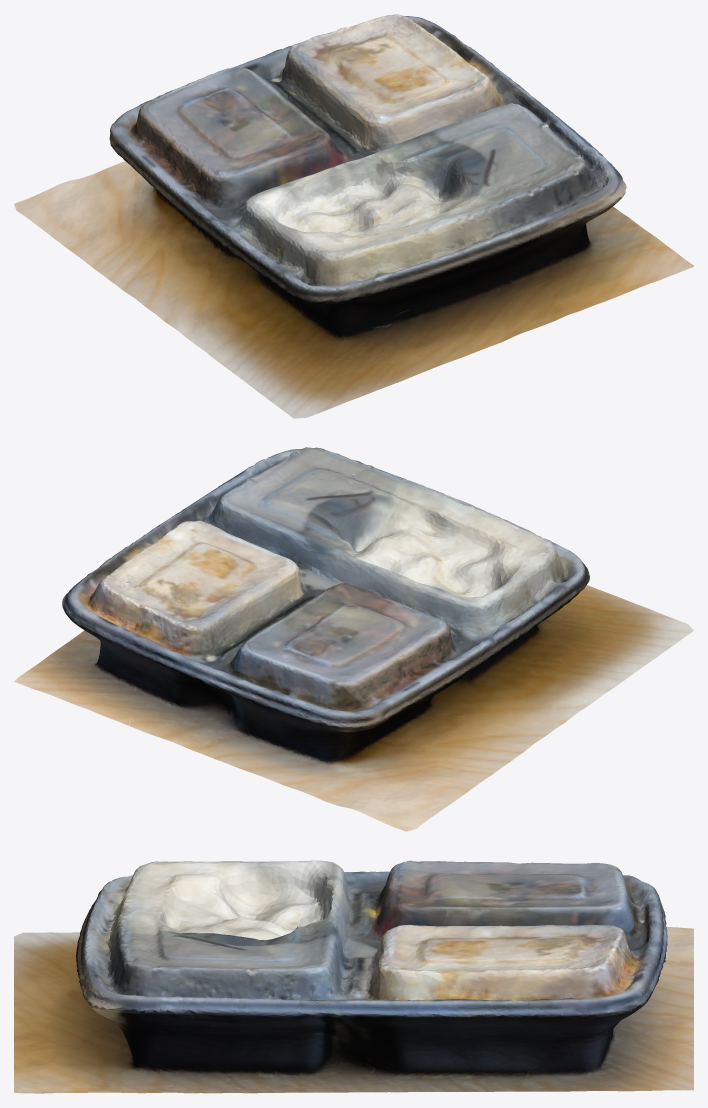
Rendered from food.glb.
3 views of the same model, one above another, from view 1: azimuth 30°, elevation 25°; view 2: azimuth 150°, elevation 25°; view 3: azimuth 270°, elevation 25° (orthographic). The views are drawn at different scales.
Bounding box in the file's own units: 0.5519 × 0.1874 × 0.6924.
Materials: 1 (1 with a texture image).
